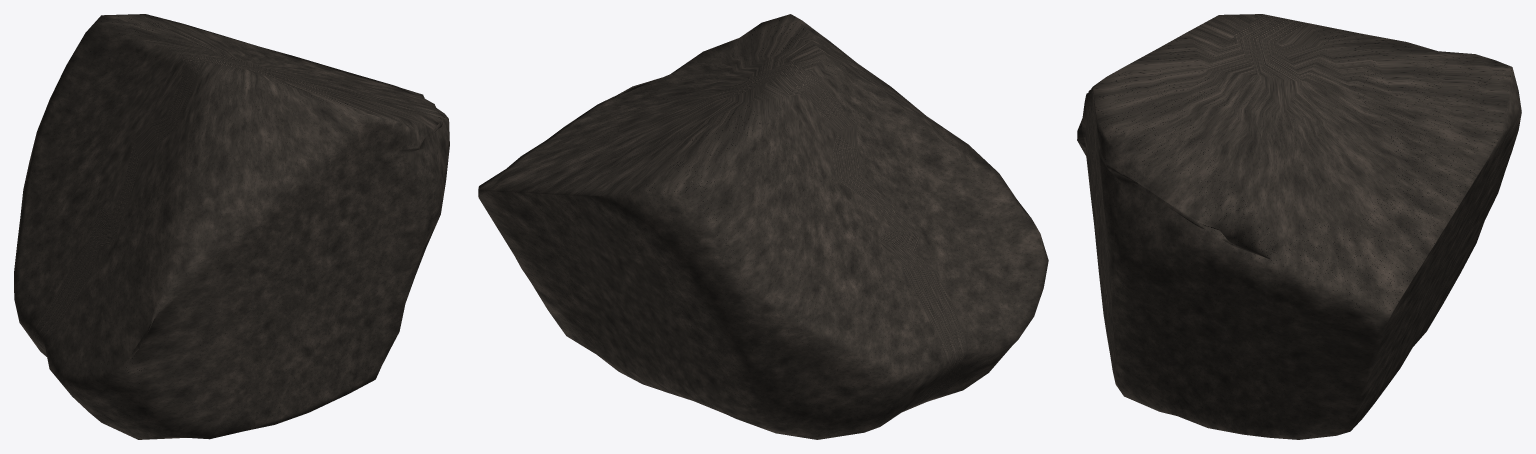
File: obstacle_mid_0.dae
3 renders of one model, left to right at view 1: azimuth 30°, elevation 25°; view 2: azimuth 150°, elevation 25°; view 3: azimuth 270°, elevation 25°, orthographic. The views are drawn at different scales.
Visible parts, largest first — view 1: obstacle_mid_0; view 2: obstacle_mid_0; view 3: obstacle_mid_0.
Part boxes in pixels (left/top/right/bottom): obstacle_mid_0: left=14, top=14, right=449, bottom=439; obstacle_mid_0: left=478, top=14, right=1048, bottom=439; obstacle_mid_0: left=1077, top=14, right=1521, bottom=439.
Size of the model in its own units: 1 by 0.7846 by 0.6623.
Materials: 1 (1 with a texture image).
